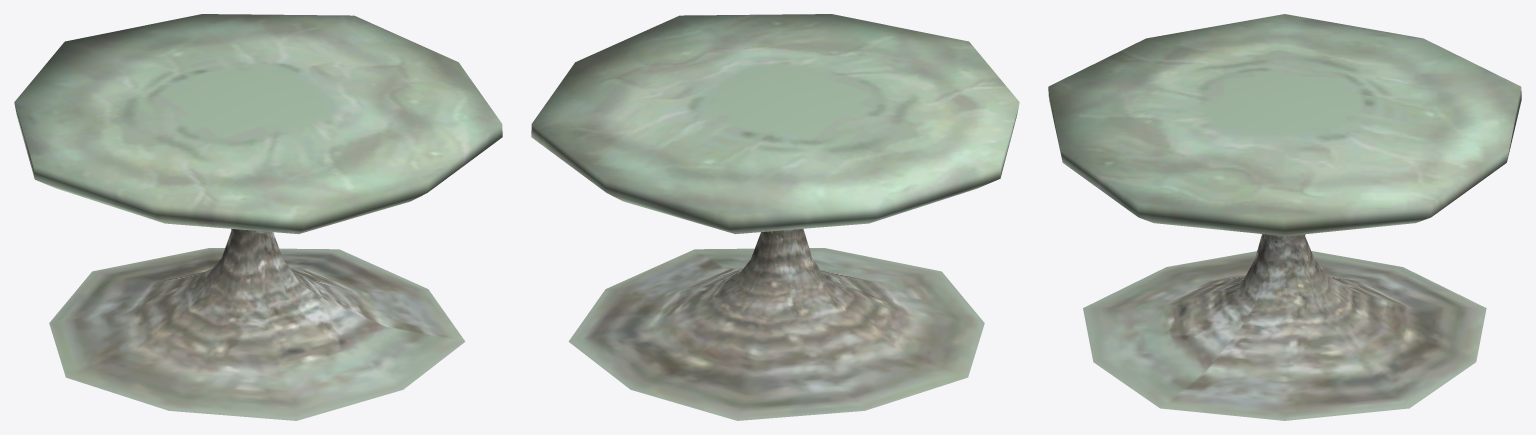
Rendered from INST_TROLLHOLE_SHELFSTONE1M.fbx.
3 views of the same model, side by side, from view 1: azimuth 30°, elevation 25°; view 2: azimuth 150°, elevation 25°; view 3: azimuth 270°, elevation 25° (orthographic).
Parts seen in each view (by area): view 1: INST_TROLLHOLE_SHELFSTONE1M; view 2: INST_TROLLHOLE_SHELFSTONE1M; view 3: INST_TROLLHOLE_SHELFSTONE1M.
Boxes of the visible parts, x1=… form: INST_TROLLHOLE_SHELFSTONE1M: x1=14, y1=14, x2=502, y2=420; INST_TROLLHOLE_SHELFSTONE1M: x1=531, y1=14, x2=1019, y2=420; INST_TROLLHOLE_SHELFSTONE1M: x1=1048, y1=14, x2=1521, y2=420.
Bounding box in the file's own units: 21244 × 11501 × 20753.
2 materials, 2 textured.
